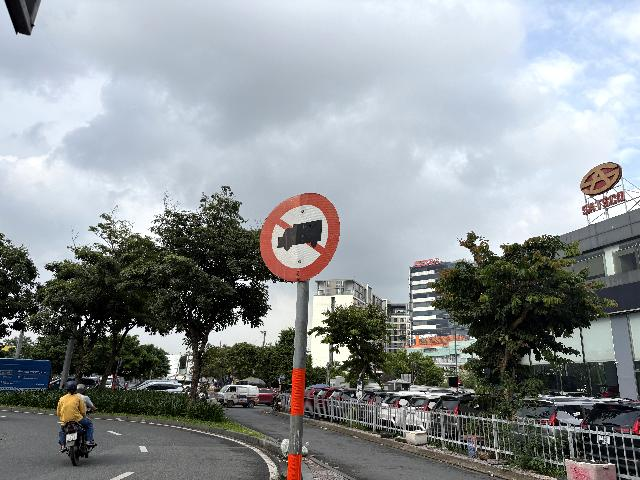cam-xe-tai: (260, 192, 341, 282)
